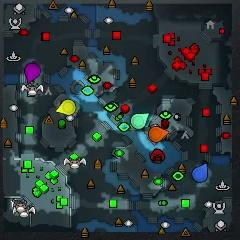p1: (193, 164, 208, 182)
p2: (131, 112, 149, 129)
p3: (24, 63, 41, 83)
p4: (56, 100, 76, 115)
p5: (148, 128, 168, 142)
